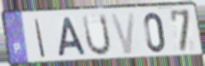0: (143, 11, 166, 54)
7: (168, 9, 193, 55)
A: (56, 16, 88, 58)
I: (33, 18, 47, 59)
U: (81, 13, 112, 57)
V: (109, 11, 136, 56)
